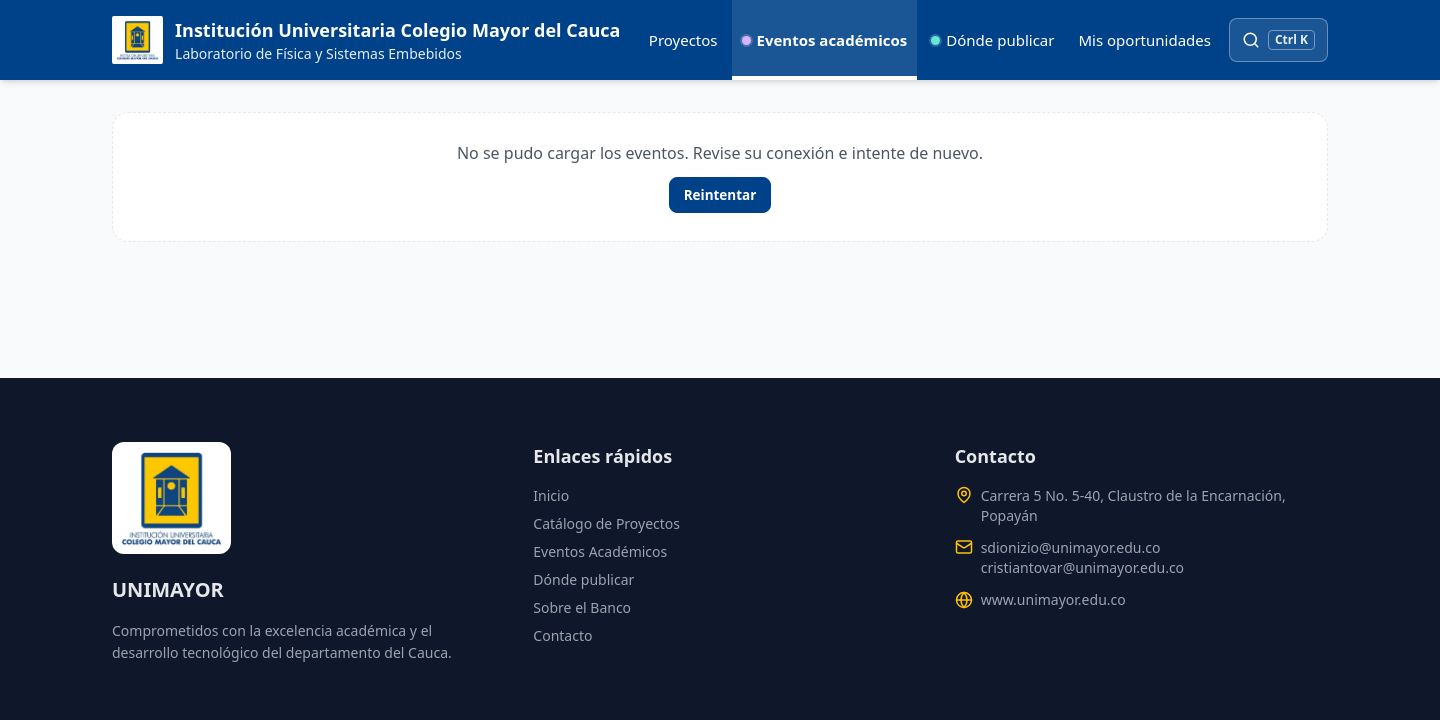
Test: /eventos › says what could not be loaded and «Reintentar» downloads it again and recovers
The image size is (1440, 720).
Expected: the message shows "No se pudo cargar los eventos", [112,112,1328,242]
Expected: the heading "Buscador de eventos académicos" is not shown
Click the button "Reintentar" at (720, 195), box [669,177,771,213]
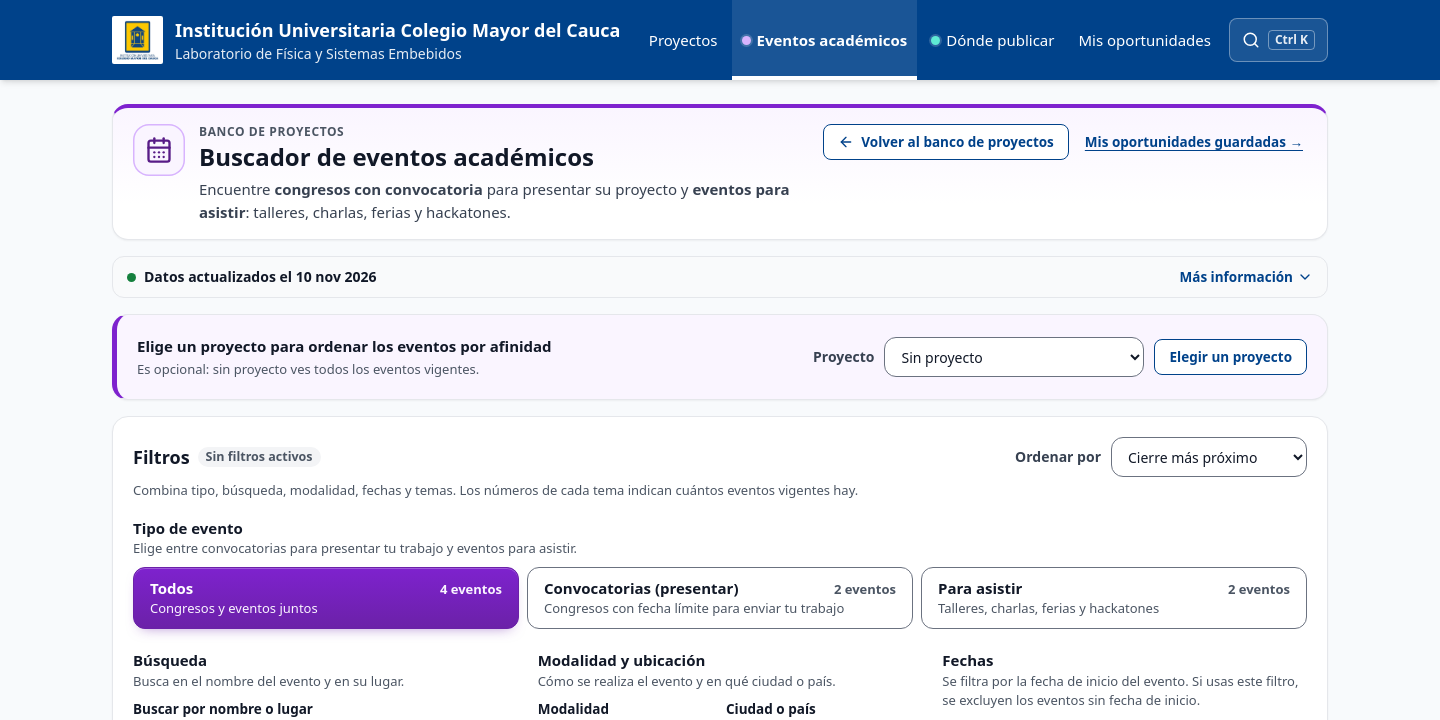
Result: the heading "Buscador de eventos académicos" is shown at [199,140,594,173]
Result: the message is gone
